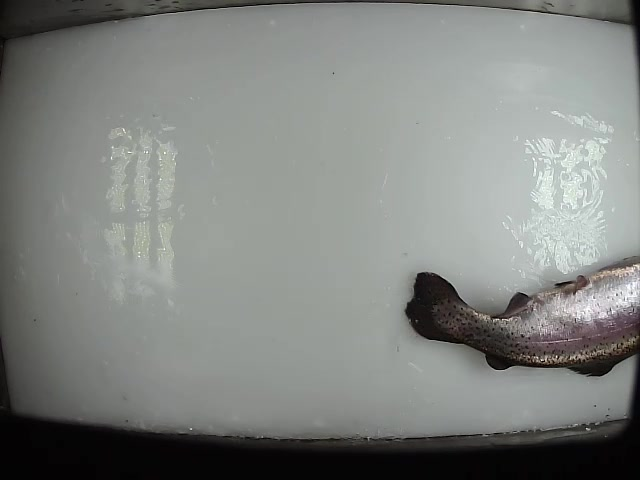fish: (404, 253, 640, 382)
